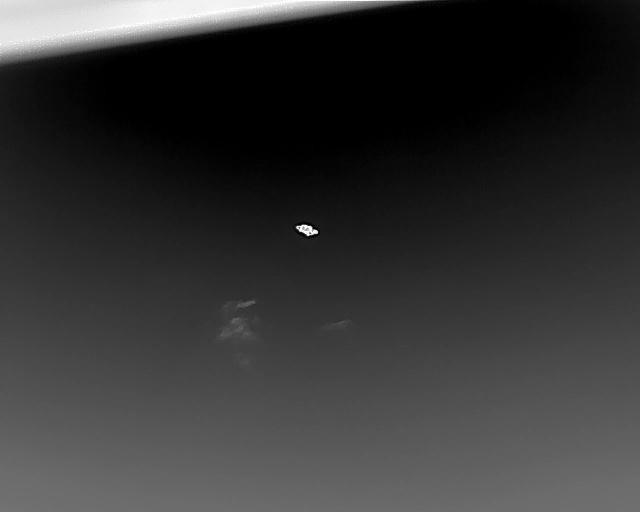fpv-drone: (295, 224, 318, 237)
